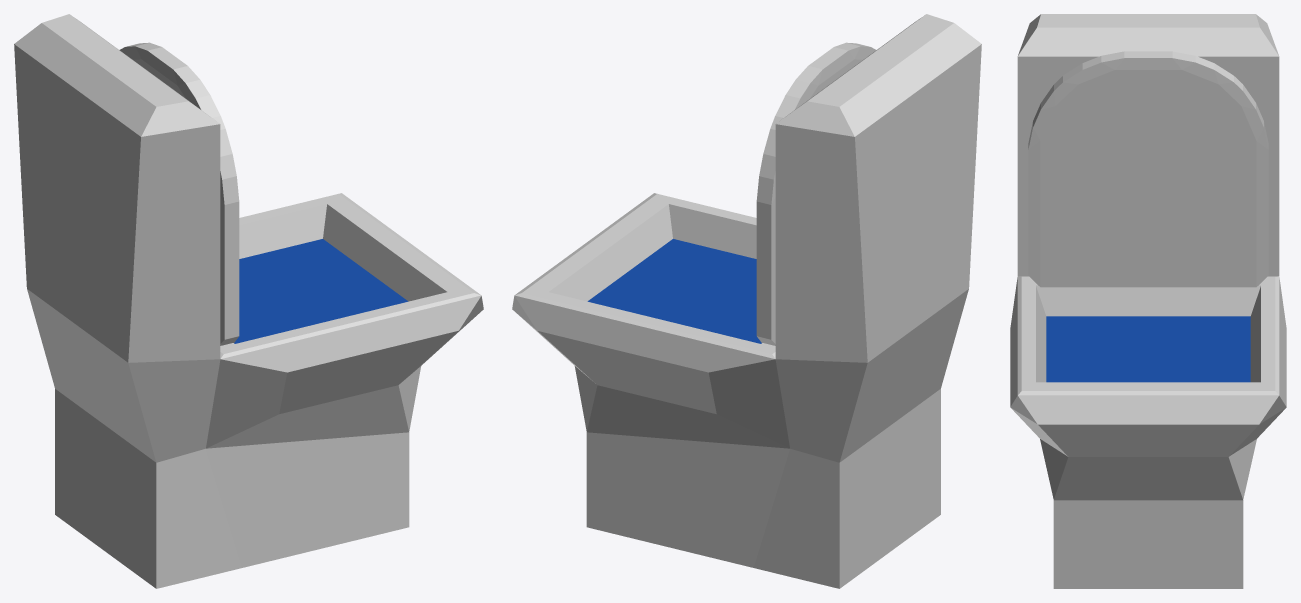
Rendered from Toilet.fbx.
3 renders of one model, left to right at view 1: azimuth 30°, elevation 25°; view 2: azimuth 150°, elevation 25°; view 3: azimuth 270°, elevation 25°, orthographic. The views are drawn at different scales.
Parts seen in each view (by area): view 1: Toilet, Plane, Cube; view 2: Toilet, Plane, Cube; view 3: Toilet, Cube, Plane.
Part boxes in pixels (x1,y1,x2,y2): Toilet: (14, 14, 483, 588); Plane: (234, 239, 408, 343); Cube: (119, 42, 239, 345); Toilet: (512, 14, 981, 588); Plane: (587, 239, 761, 343); Cube: (756, 42, 876, 345); Toilet: (1010, 14, 1286, 588); Cube: (1028, 51, 1268, 287); Plane: (1046, 316, 1250, 382).
Size of the model in its own units: 148 by 199 by 109.
